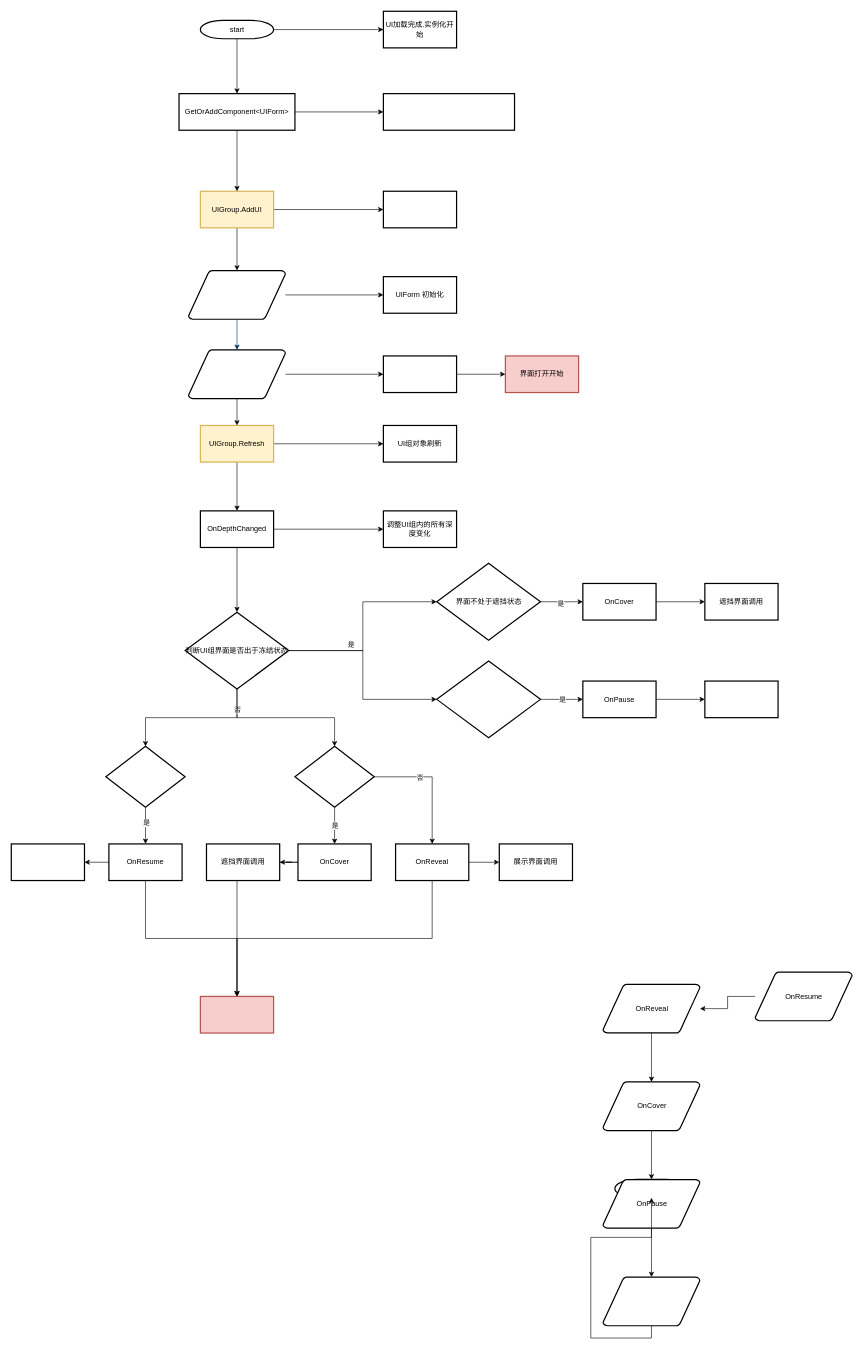
Image size: 863x1354. Some labels were removed from this diagram. Each missing label, with the box of its shape:
OnClose: (602, 1276, 700, 1326)
OnInit: (188, 270, 286, 320)
OnOpen: (188, 349, 286, 399)
将UI实例化对象添加到UI组: (382, 190, 457, 228)
将用户自定义数据传输给UI界面对象执行UI打开逻辑: (382, 355, 457, 393)
恢复界面调用: (10, 843, 85, 881)
暂停界面调用: (704, 680, 778, 718)
界面不处于暂停状态: (436, 660, 541, 738)
界面处于暂停状态: (105, 745, 185, 808)
界面处于遮挡状态: (294, 745, 375, 808)
界面打开结束: (199, 996, 274, 1033)
获取或设置继承自UIForm 的UI对象 (没有获取到会增加): (382, 93, 515, 131)
